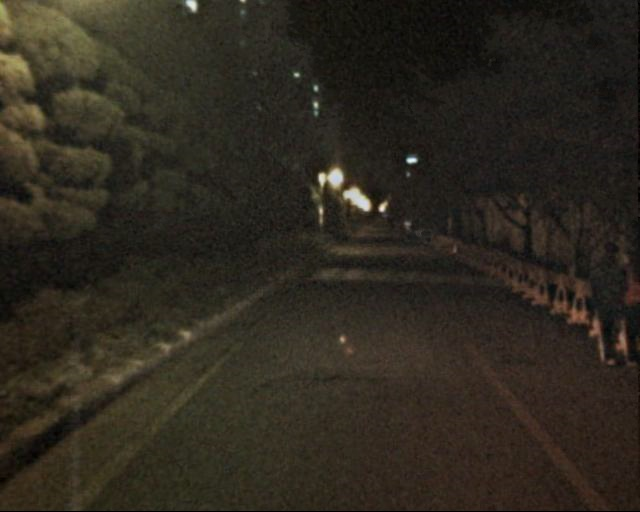person: (578, 240, 636, 370)
